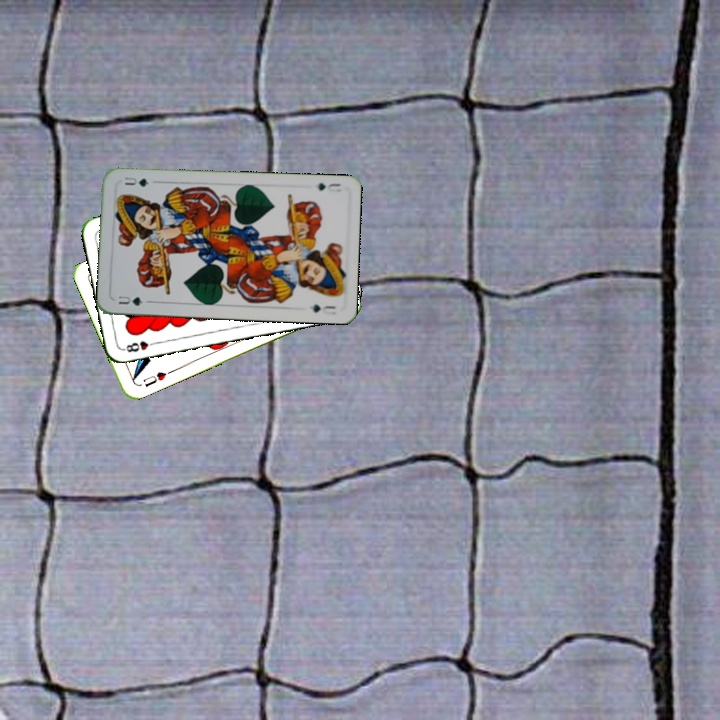GU: (114, 291, 145, 308), (313, 179, 343, 195)
H8: (119, 337, 160, 355)
HU: (139, 367, 174, 390)
